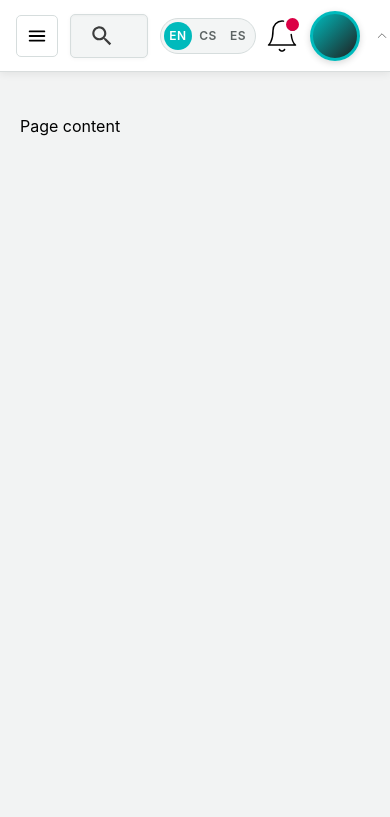
Test: BaseLayout sidebar drawer › opens from the menu button and moves the focus to the first link
This screenshot has width=390, height=817.
What coordinates should you click on to do the following:
click the button named "Open menu"
I would click on:
 (37, 36)
Its box is [16,14,58,56].
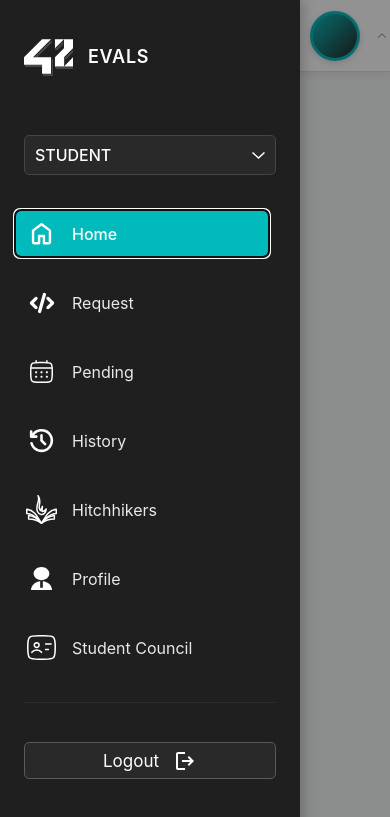
Expected: the button named "Open menu" is expanded, [16,14,58,56]
